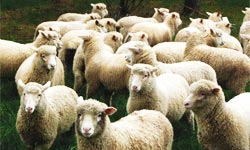sheep: (120, 48, 204, 105), (76, 98, 167, 150), (169, 38, 248, 94), (16, 81, 82, 147), (79, 30, 127, 95), (2, 19, 64, 68), (20, 47, 71, 98), (106, 5, 174, 42), (24, 11, 97, 40), (182, 16, 225, 48), (153, 12, 184, 46), (85, 2, 116, 30)
